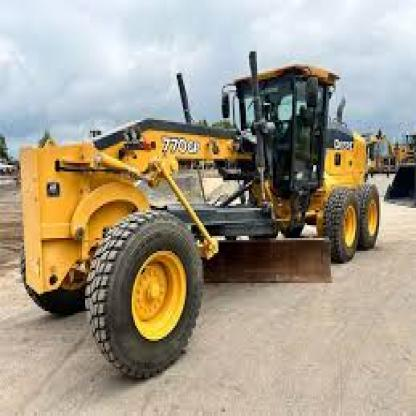bull_dozer/loader/grader: (16, 37, 414, 364)
